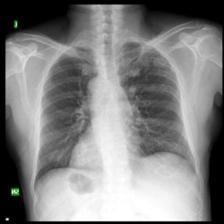tuberculosis: (33, 35, 203, 198)
